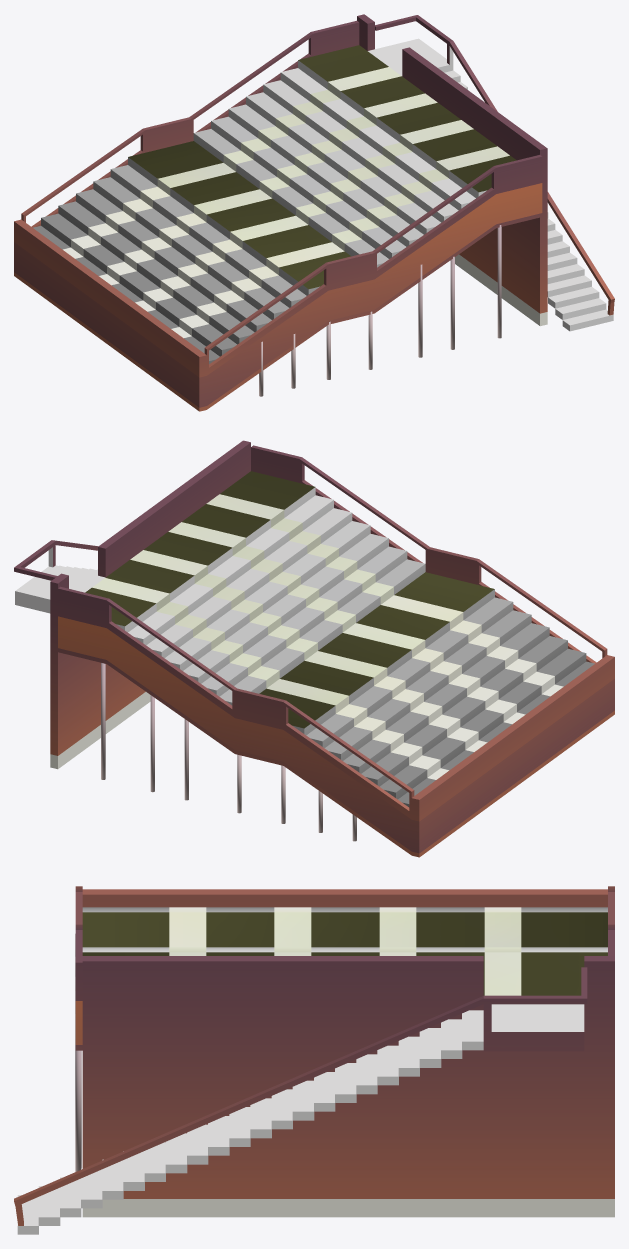
File: platform2.fbx
The picture shows the model from 3 angles, top to bottom: view 1: azimuth 30°, elevation 25°; view 2: azimuth 150°, elevation 25°; view 3: azimuth 270°, elevation 25°; orthographic projection. The views are drawn at different scales.
Visible parts, largest first — view 1: Cube.002; view 2: Cube.002; view 3: Cube.002.
Boxes of the visible parts, x1,y1,x2,y2 form: Cube.002: (14,14,614,411); Cube.002: (14,440,614,857); Cube.002: (14,886,614,1234).
Size of the model in its own units: 1511 by 645 by 1372.
